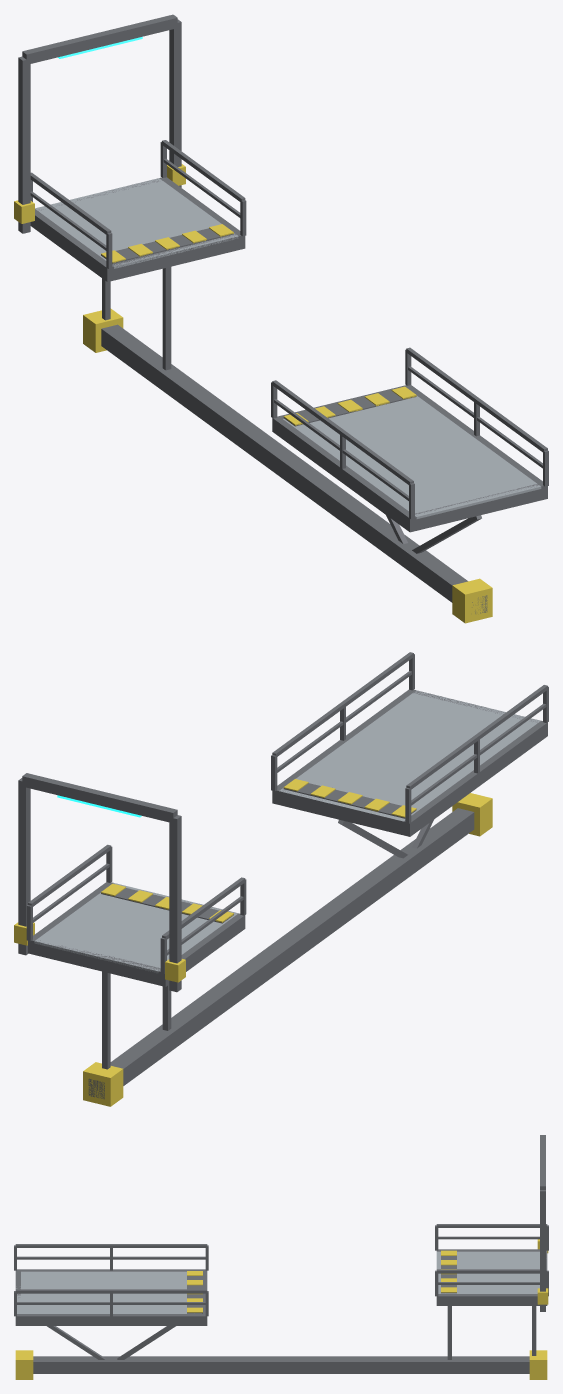
The model's file is scaffold_gap_leap_g20.glb.
3 renders of one model, top to bottom at view 1: azimuth 30°, elevation 25°; view 2: azimuth 150°, elevation 25°; view 3: azimuth 270°, elevation 25°, orthographic. The views are drawn at different scales.
Visible parts, largest first — view 1: Deck_b, Spine, Deck_a, Frame_b_-1, PortalLintel, Header_a_1, PortalPost_-1, Header_b_1, PortalPost_1, Frame_a_-1, Collar_12, Rail_b_-1 (+8 smaller); view 2: Deck_b, Spine, Deck_a, Frame_b_-1, PortalLintel, Header_a_0, Header_b_0, PortalPost_-1, PortalPost_1, Collar_0, Frame_a_-1, Rail_b_1 (+12 smaller); view 3: Spine, Deck_b, Deck_a, Frame_b_1, Frame_a_1, Rail_b_1, Rail_b_-1, MidRail_b_-1, PortalPost_1, Collar_12, MidRail_b_1, Collar_0 (+7 smaller).
Boxes of the visible parts, x1,y1,x2,y2 form: Deck_b: [283, 396, 541, 518]; Spine: [101, 324, 487, 613]; Deck_a: [35, 178, 238, 268]; Frame_b_-1: [272, 418, 416, 532]; PortalLintel: [22, 14, 177, 63]; Header_a_1: [103, 232, 245, 281]; PortalPost_-1: [18, 56, 30, 233]; Header_b_1: [406, 482, 542, 531]; PortalPost_1: [169, 19, 181, 187]; Frame_a_-1: [30, 209, 113, 281]; Collar_12: [452, 578, 492, 623]; Rail_b_-1: [272, 380, 413, 485]; Deck_b: [279, 690, 540, 821]; Spine: [88, 808, 474, 1099]; Deck_a: [34, 883, 237, 973]; Frame_b_-1: [404, 721, 546, 836]; PortalLintel: [22, 773, 177, 823]; Header_a_0: [28, 940, 165, 986]; Header_b_0: [272, 787, 409, 836]; PortalPost_-1: [169, 815, 181, 992]; PortalPost_1: [18, 778, 30, 955]; Collar_0: [83, 1062, 123, 1106]; Frame_a_-1: [159, 913, 245, 986]; Rail_b_1: [272, 652, 413, 757]; Spine: [33, 1356, 529, 1373]; Deck_b: [16, 1271, 201, 1313]; Deck_a: [436, 1251, 539, 1293]; Frame_b_1: [15, 1314, 201, 1325]; Frame_a_1: [436, 1294, 539, 1305]; Rail_b_1: [15, 1289, 207, 1293]; Rail_b_-1: [15, 1244, 207, 1247]; MidRail_b_-1: [17, 1256, 205, 1259]; PortalPost_1: [540, 1190, 545, 1311]; Collar_12: [15, 1350, 33, 1379]; MidRail_b_1: [17, 1302, 205, 1304]; Collar_0: [529, 1350, 547, 1379].
Size of the model in its own units: 2.98 by 5.34 by 12.07.
